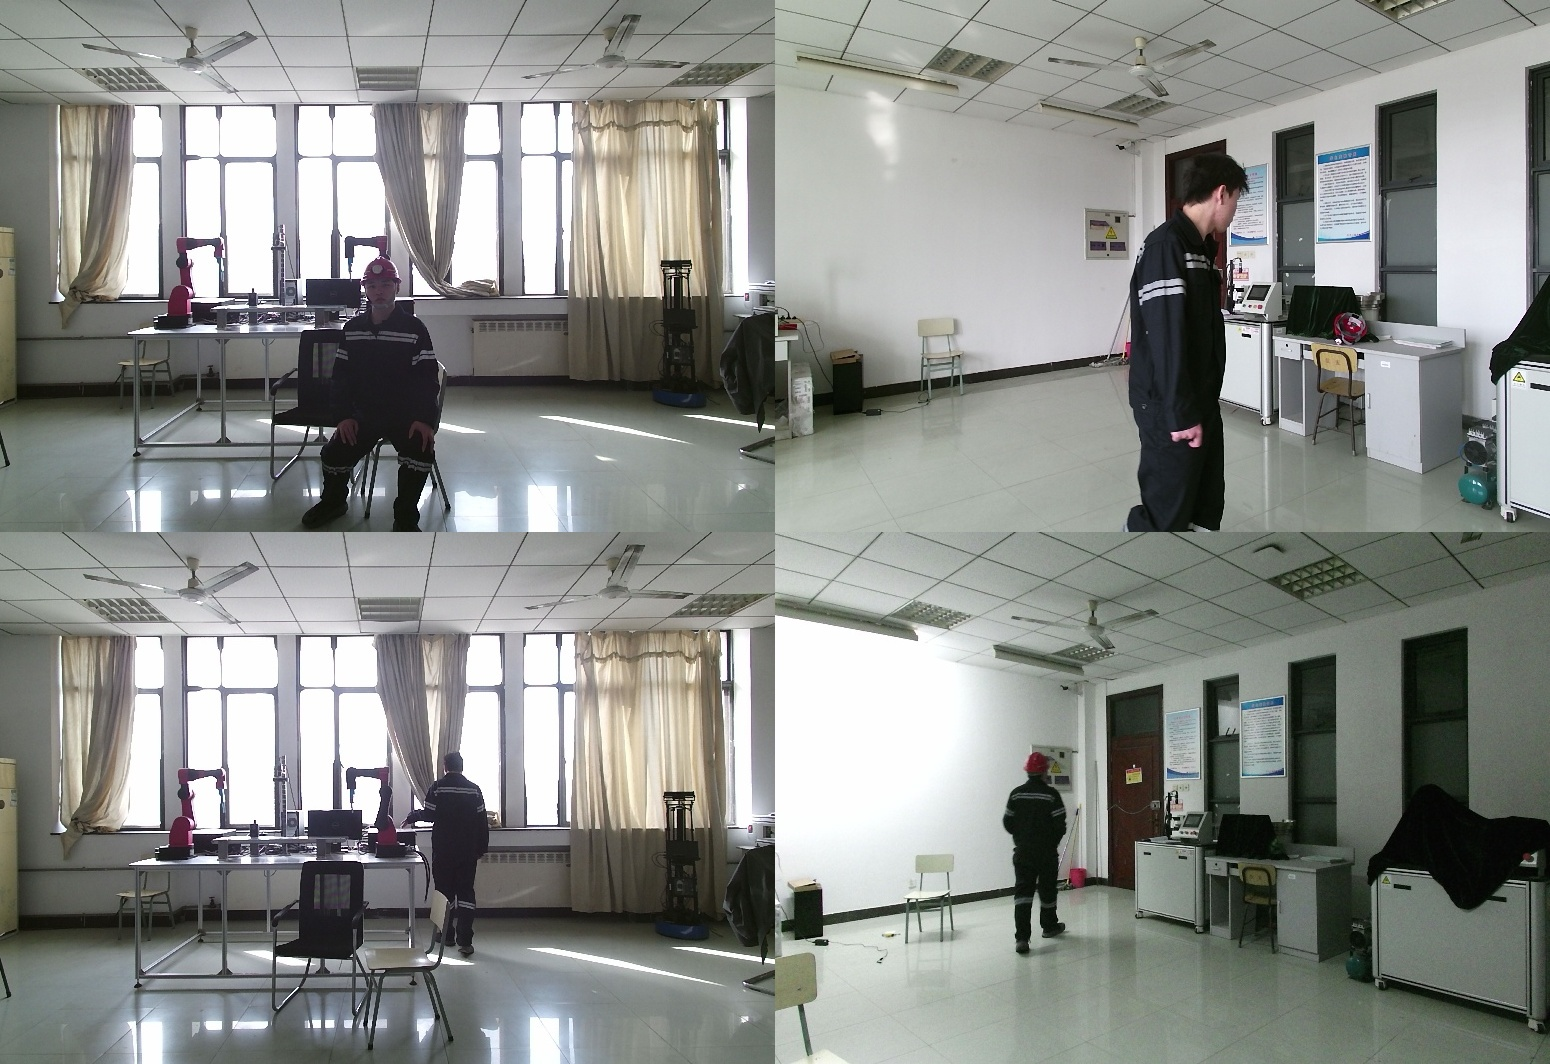person: (1123, 148, 1260, 532), (305, 257, 455, 532), (404, 749, 496, 966), (994, 752, 1070, 963)
